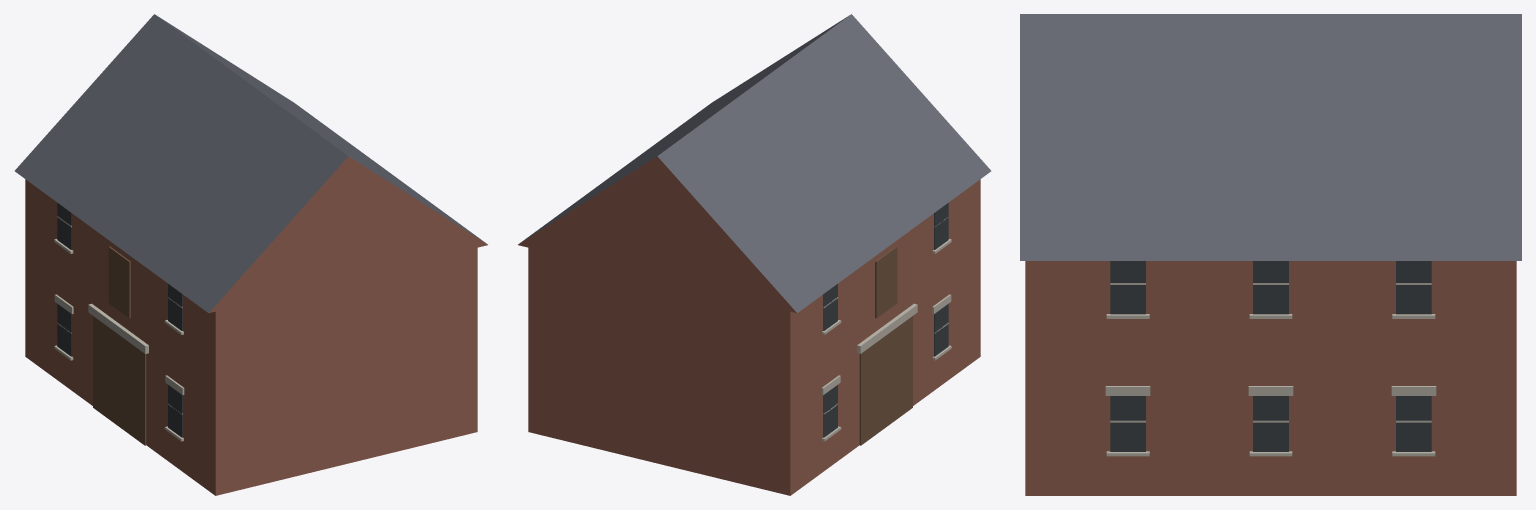
The model's file is house_1637_indiana_coach_house__draft_1904.glb.
3 views of the same model, side by side, from view 1: azimuth 30°, elevation 25°; view 2: azimuth 150°, elevation 25°; view 3: azimuth 270°, elevation 25° (orthographic). The views are drawn at different scales.
Visible parts, largest first — view 1: house_1637_indiana_coach_house__draft_1904; view 2: house_1637_indiana_coach_house__draft_1904; view 3: house_1637_indiana_coach_house__draft_1904.
Boxes of the visible parts, box(x1,y1,x2,y2) form: house_1637_indiana_coach_house__draft_1904: box(14, 14, 487, 495); house_1637_indiana_coach_house__draft_1904: box(518, 14, 991, 495); house_1637_indiana_coach_house__draft_1904: box(1020, 14, 1521, 495).
Bounding box in the file's own units: 9.35 × 9.87 × 11.24.
